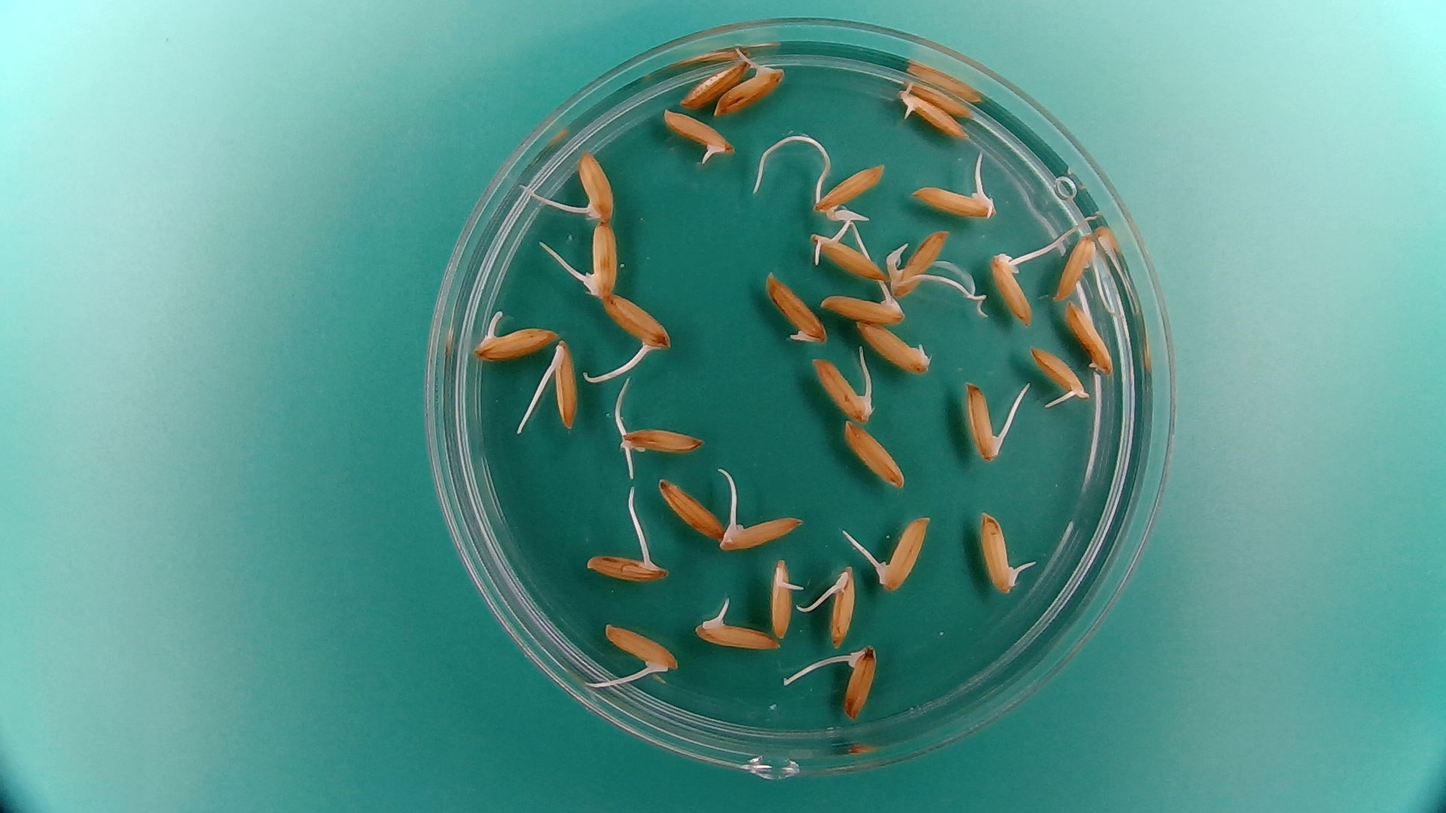no: (840, 419, 908, 489), (654, 476, 728, 540), (857, 318, 936, 376), (1061, 300, 1116, 375), (902, 72, 978, 123), (676, 59, 743, 111)
yes: (763, 268, 827, 348), (597, 291, 671, 353), (808, 356, 876, 423), (715, 62, 789, 123), (874, 513, 931, 591), (603, 623, 681, 679), (987, 245, 1037, 327), (813, 160, 887, 215), (892, 227, 950, 294), (1028, 343, 1089, 406), (567, 146, 616, 223), (810, 236, 888, 284), (894, 84, 962, 138), (978, 513, 1020, 596), (659, 110, 733, 156), (717, 512, 798, 554), (1053, 233, 1100, 304), (692, 617, 786, 651), (837, 643, 880, 717), (817, 287, 905, 322), (471, 325, 551, 363), (908, 187, 996, 221), (969, 379, 1005, 461), (550, 336, 580, 432), (823, 562, 857, 646), (768, 556, 801, 641), (584, 219, 620, 295), (615, 428, 705, 456), (585, 553, 669, 583)
